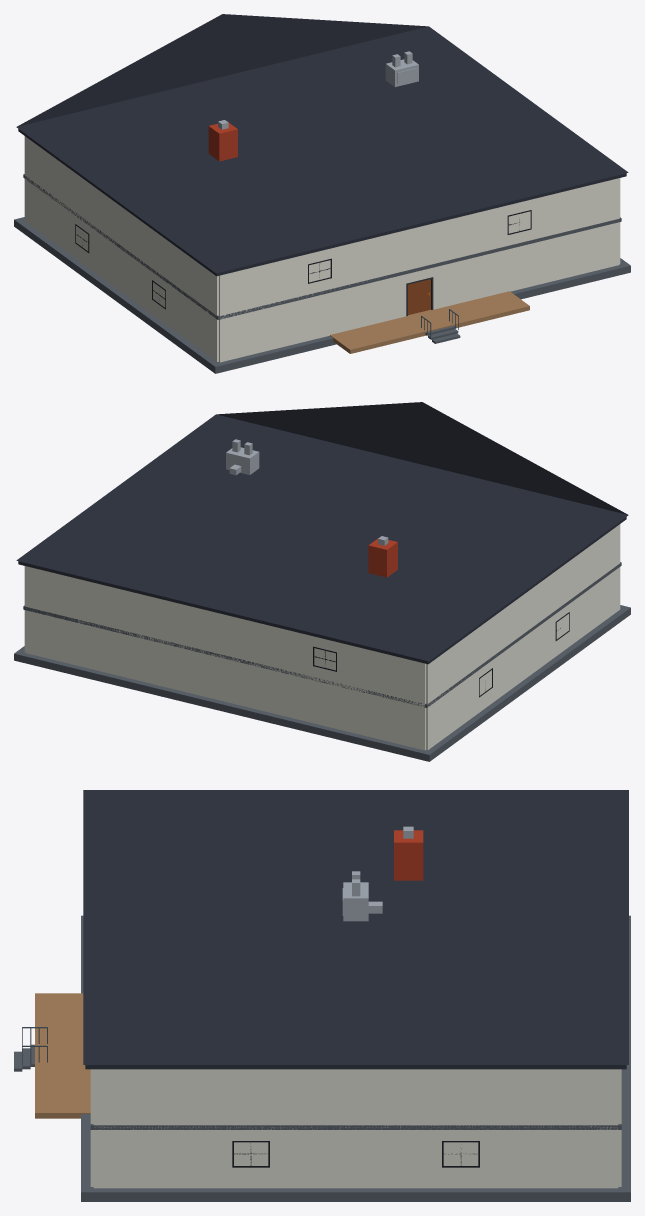
The model's file is bp_proj20_ae42a08b4b57.obj.
3 views of the same model, one above another, from view 1: azimuth 30°, elevation 25°; view 2: azimuth 150°, elevation 25°; view 3: azimuth 270°, elevation 25° (orthographic). The views are drawn at different scales.
Visible parts, largest first — view 1: Roof_Gable_Pitch, Ext_Wall_South_2F, Ext_Wall_West, Ext_Wall_South_L, Ext_Wall_South_R, Ext_Wall_West_2F, Foundation_Slab, Porch_Deck, Second_Floor_Slab, Roof_Cap_Base, Masonry_Chimney, Main_Front_Door_Panel (+1 smaller); view 2: Roof_Gable_Pitch, Ext_Wall_North, Ext_Wall_North_2F, Ext_Wall_West, Ext_Wall_West_2F, Foundation_Slab, Second_Floor_Slab, Roof_Cap_Base, Masonry_Chimney, Roof_Ridge_Vent_HVAC_Unit; view 3: Roof_Gable_Pitch, Ext_Wall_East, Ext_Wall_East_2F, Foundation_Slab, Porch_Deck, Roof_Cap_Base, Second_Floor_Slab, Masonry_Chimney, Roof_Ridge_Vent_HVAC_Unit.
Part boxes in pixels (x1,y1,x2,y2): Roof_Gable_Pitch: (16, 14, 628, 273); Ext_Wall_South_2F: (219, 178, 619, 316); Ext_Wall_West: (24, 177, 218, 361); Ext_Wall_South_L: (219, 274, 406, 362); Ext_Wall_South_R: (433, 222, 619, 309); Ext_Wall_West_2F: (24, 136, 218, 315); Foundation_Slab: (14, 217, 630, 373); Porch_Deck: (330, 291, 529, 353); Second_Floor_Slab: (23, 174, 621, 319); Roof_Cap_Base: (18, 129, 626, 276); Masonry_Chimney: (208, 121, 237, 161); Main_Front_Door_Panel: (408, 279, 430, 315); Roof_Gable_Pitch: (16, 402, 628, 661); Ext_Wall_North: (25, 610, 425, 750); Ext_Wall_North_2F: (25, 566, 425, 705); Ext_Wall_West: (426, 567, 620, 749); Ext_Wall_West_2F: (426, 524, 620, 703); Foundation_Slab: (14, 605, 630, 761); Second_Floor_Slab: (23, 562, 621, 707); Roof_Cap_Base: (18, 517, 626, 664); Masonry_Chimney: (368, 538, 397, 577); Roof_Ridge_Vent_HVAC_Unit: (226, 447, 259, 474); Roof_Gable_Pitch: (83, 790, 628, 1064); Ext_Wall_East: (93, 1127, 618, 1188); Ext_Wall_East_2F: (93, 1069, 618, 1127); Foundation_Slab: (81, 915, 630, 1201); Porch_Deck: (35, 993, 90, 1118); Roof_Cap_Base: (85, 1065, 626, 1069); Second_Floor_Slab: (90, 1124, 621, 1129); Masonry_Chimney: (394, 830, 423, 880); Roof_Ridge_Vent_HVAC_Unit: (343, 882, 368, 921).
Bounding box in the file's own units: 31.2 × 13.06 × 29.4.
